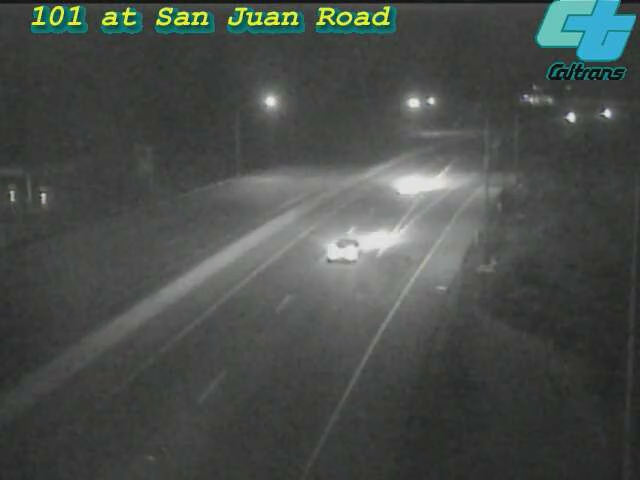vehicle: (368, 145, 448, 225), (304, 211, 384, 291), (547, 92, 597, 142), (584, 88, 634, 138)
